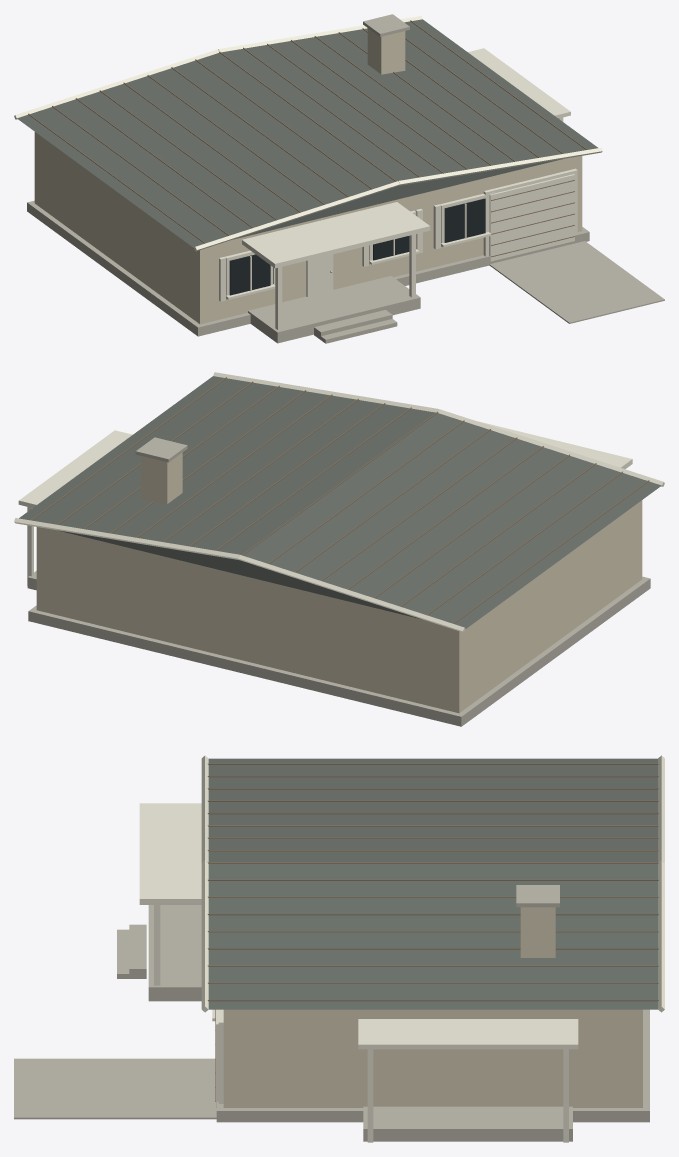
File: house-1.glb
3 views of the same model, one above another, from view 1: azimuth 30°, elevation 25°; view 2: azimuth 150°, elevation 25°; view 3: azimuth 270°, elevation 25° (orthographic). The views are drawn at different scales.
Parts seen in each view (by area): view 1: shingle, stucco, ivory, concrete, wood, rubber; view 2: shingle, stucco, concrete, ivory, wood; view 3: shingle, stucco, concrete, ivory, wood.
Part boxes in pixels (box(x1,y1,x2,y2)): shingle: box(17, 19, 597, 247); stucco: box(34, 28, 582, 324); ivory: box(14, 16, 602, 329); concrete: box(27, 14, 664, 343); wood: box(28, 20, 587, 257); rubber: box(229, 198, 485, 295); shingle: box(19, 376, 661, 628); stucco: box(36, 452, 642, 713); concrete: box(27, 437, 650, 726); ivory: box(14, 372, 664, 632); wood: box(31, 377, 649, 623); shingle: box(208, 758, 657, 1009); stucco: box(223, 907, 642, 1107); concrete: box(14, 885, 649, 1141); ivory: box(139, 755, 664, 1142); wood: box(207, 763, 658, 1101).
Bounding box in the file's own units: 18.26 × 5.71 × 18.63.
